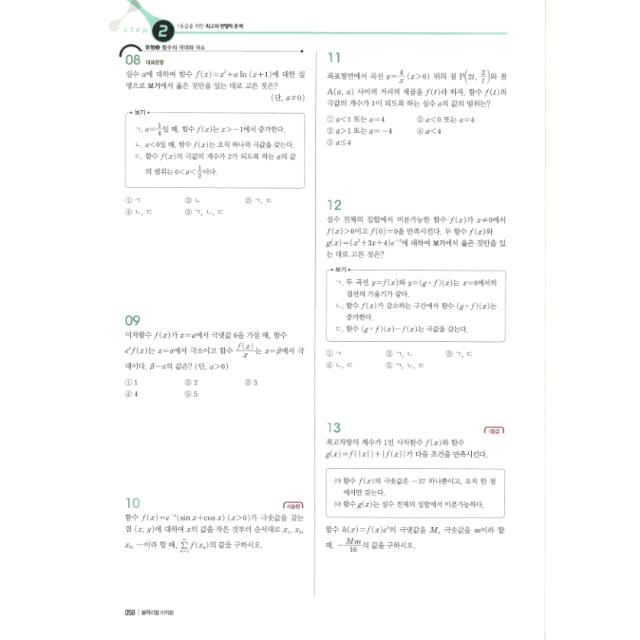multiple: (318, 190, 514, 376), (112, 39, 310, 221), (318, 40, 512, 150), (118, 308, 306, 404)
short: (318, 414, 516, 564), (116, 488, 310, 560)
